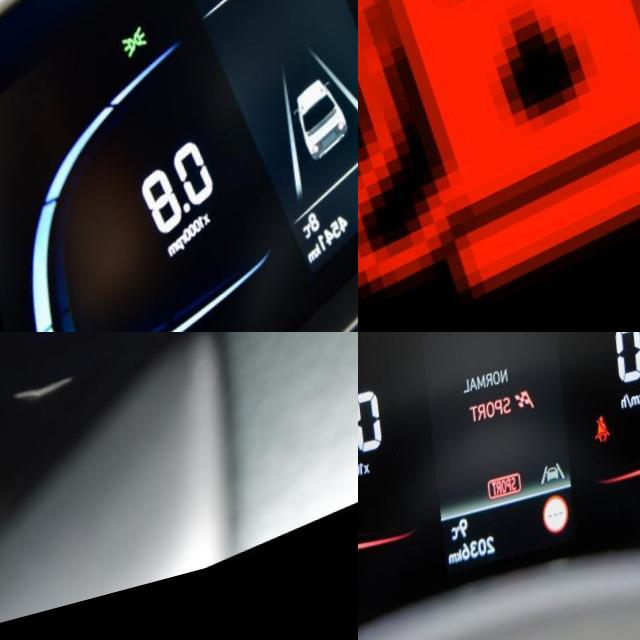LaneCenteringOff: (530, 479, 558, 505)
Low fuel level: (358, 0, 640, 332)
SideLamp: (116, 31, 146, 68)
